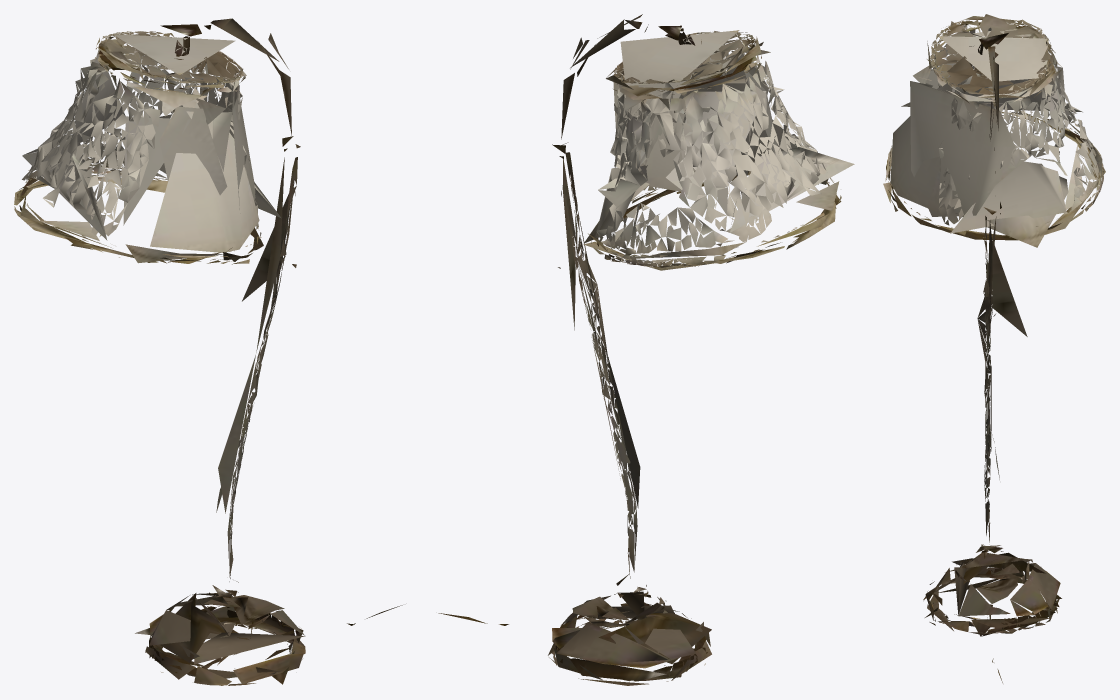
Rendered from lamp_lod2.glb.
3 views of the same model, side by side, from view 1: azimuth 30°, elevation 25°; view 2: azimuth 150°, elevation 25°; view 3: azimuth 270°, elevation 25° (orthographic). The views are drawn at different scales.
Parts seen in each view (by area): view 1: node_0; view 2: node_0; view 3: node_0.
Boxes of the visible parts, x1,y1,x2,y2 form: node_0: [14, 18, 402, 685]; node_0: [438, 14, 854, 685]; node_0: [883, 14, 1105, 682].
Bounding box in the file's own units: 0.5993 × 0.9589 × 0.3455.
Materials: 1 (1 with a texture image).
